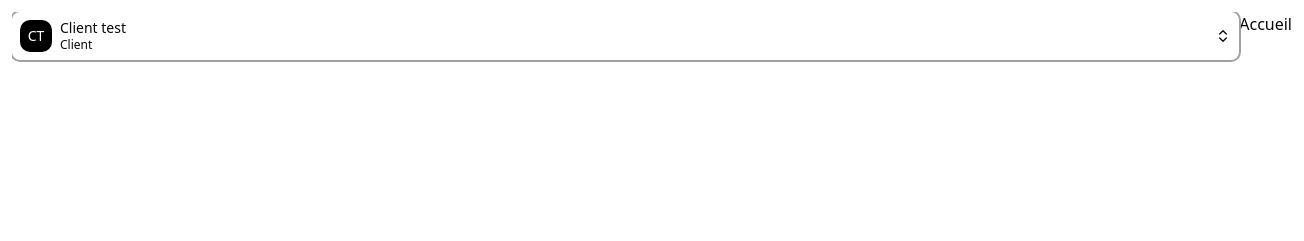
NavUser suivi de compte › navigue vers le compte depuis le menu
Press Enter
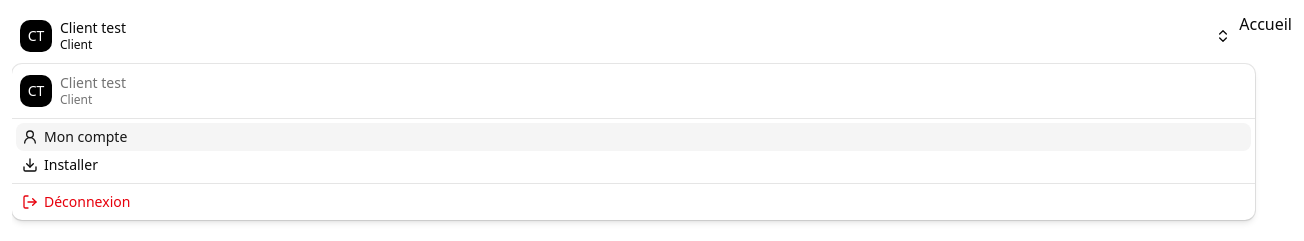
expect the menu item "Mon compte" is shown: met
Click the menu item "Mon compte" at (86, 136), box [16,122,1251,150]
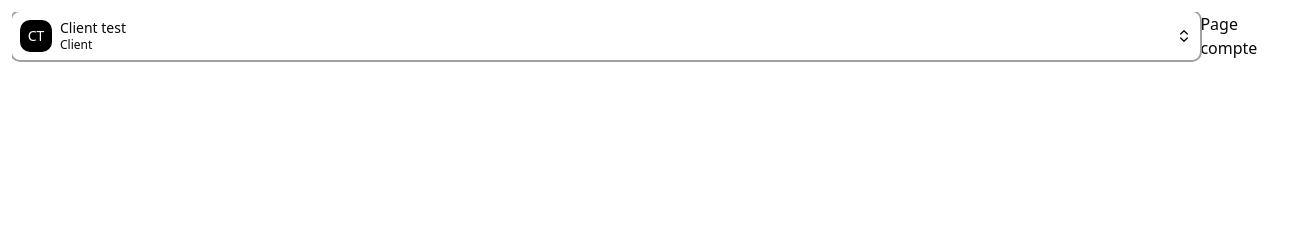
expect the text "Page compte" is shown: met, box [1200,13,1257,59]
